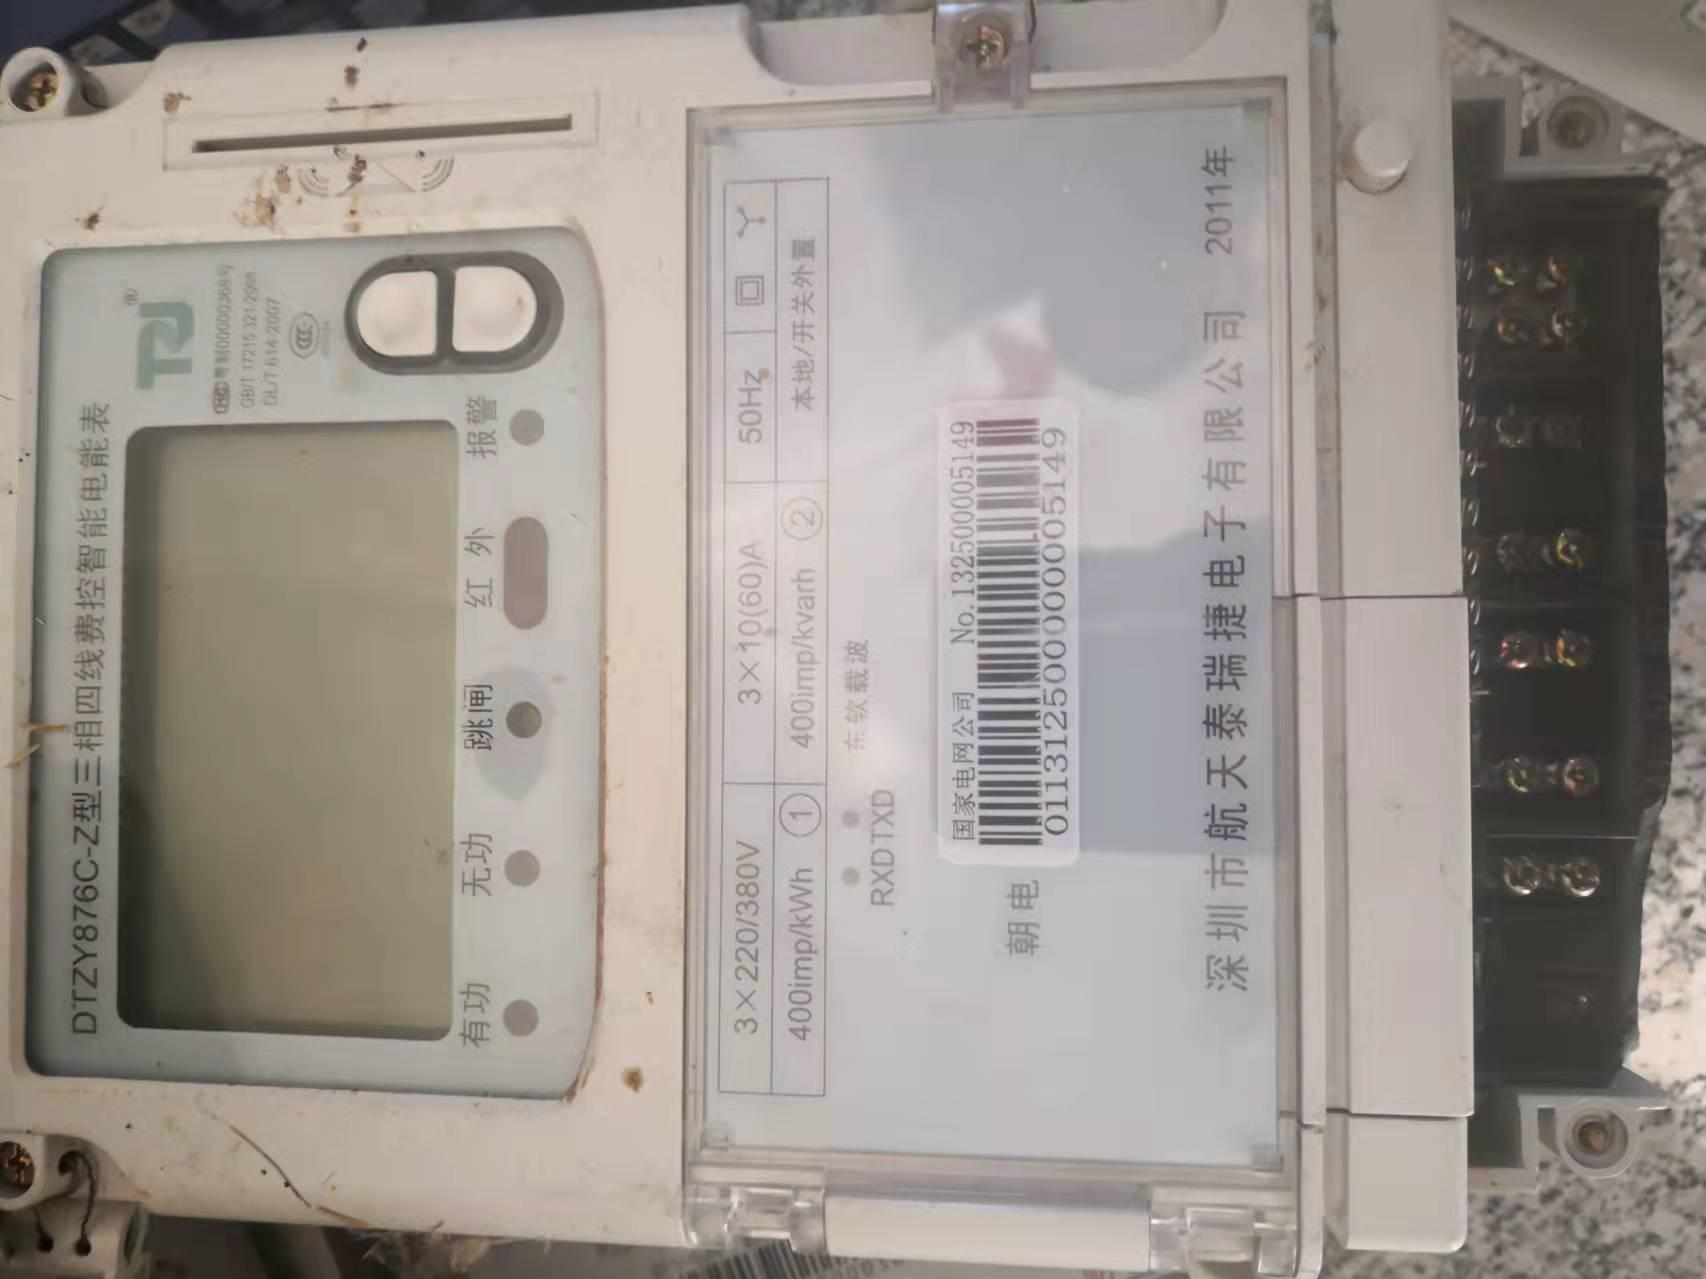digital: (3, 1, 1323, 1270)
